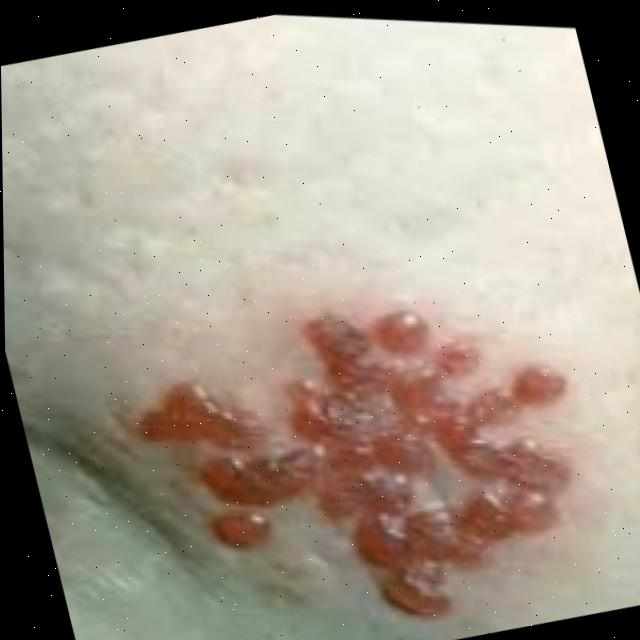Shingles: (153, 275, 622, 633)
